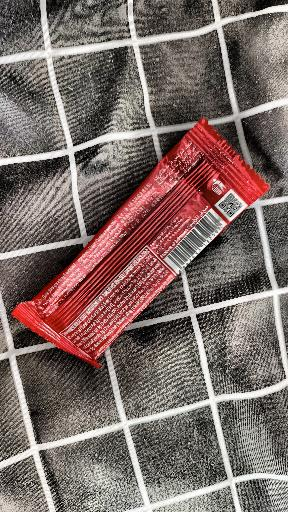chocho: (29, 99, 252, 389)
